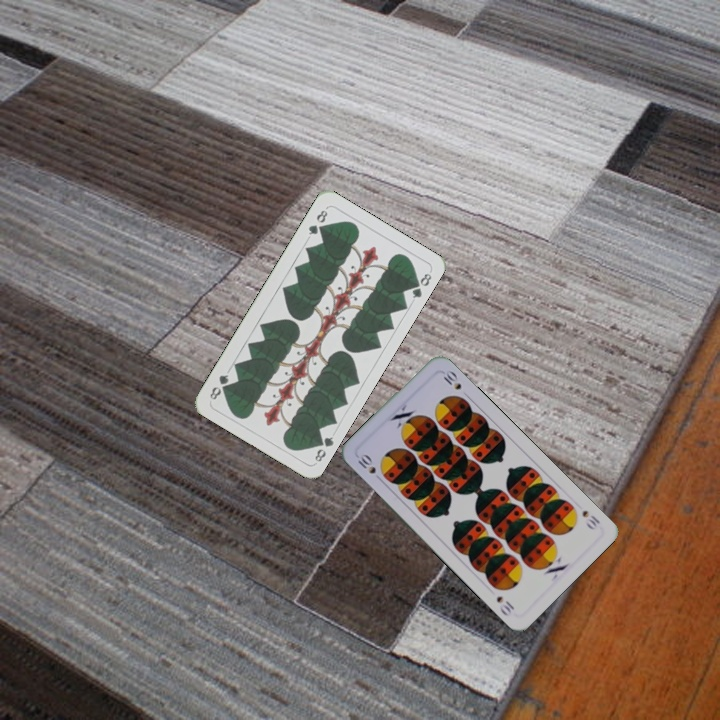G8: (304, 206, 330, 238), (311, 432, 336, 465)
S10: (578, 506, 603, 532), (354, 449, 378, 476)
